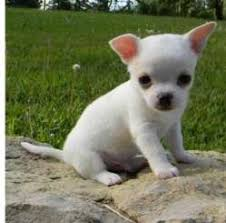chihuahua: (34, 14, 226, 203)
